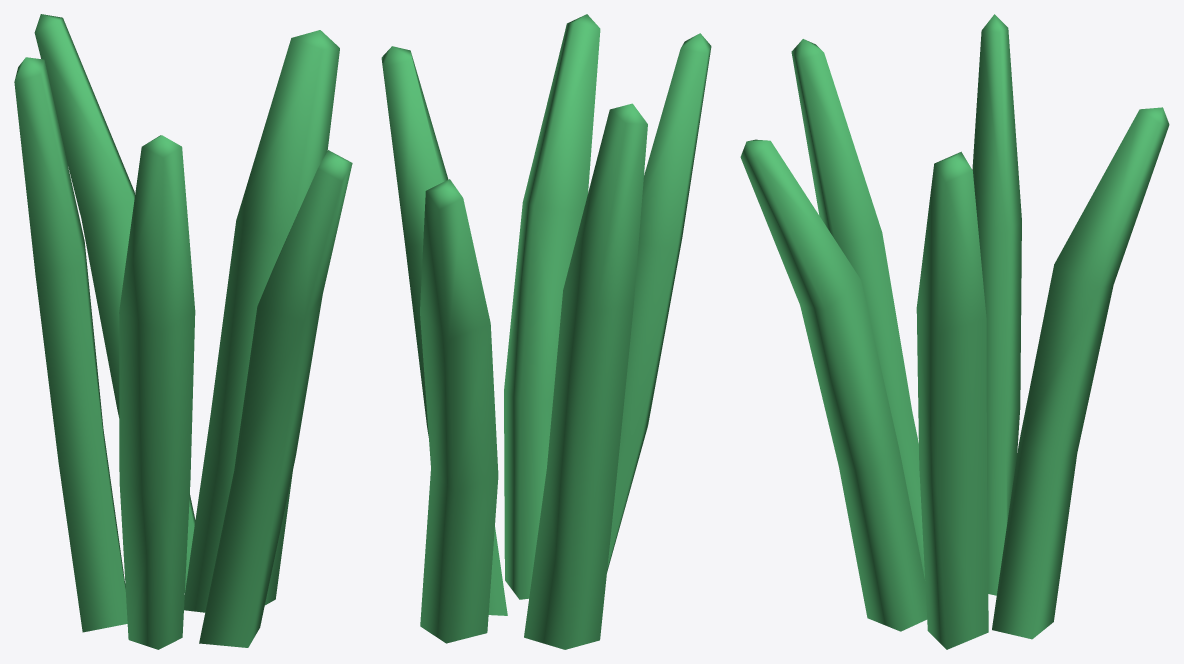
The model's file is Grass_B_05_LOD2.gltf.
3 renders of one model, left to right at view 1: azimuth 30°, elevation 25°; view 2: azimuth 150°, elevation 25°; view 3: azimuth 270°, elevation 25°, orthographic. The views are drawn at different scales.
Parts seen in each view (by area): view 1: Grass_B_05_LOD2_Cube.713; view 2: Grass_B_05_LOD2_Cube.713; view 3: Grass_B_05_LOD2_Cube.713.
Part boxes in pixels (x1,y1,x2,y2): Grass_B_05_LOD2_Cube.713: [14, 14, 352, 649]; Grass_B_05_LOD2_Cube.713: [381, 14, 711, 649]; Grass_B_05_LOD2_Cube.713: [740, 14, 1169, 649].
Size of the model in its own units: 2.97 by 5.43 by 3.95.
Materials: 1 (1 with a texture image).
